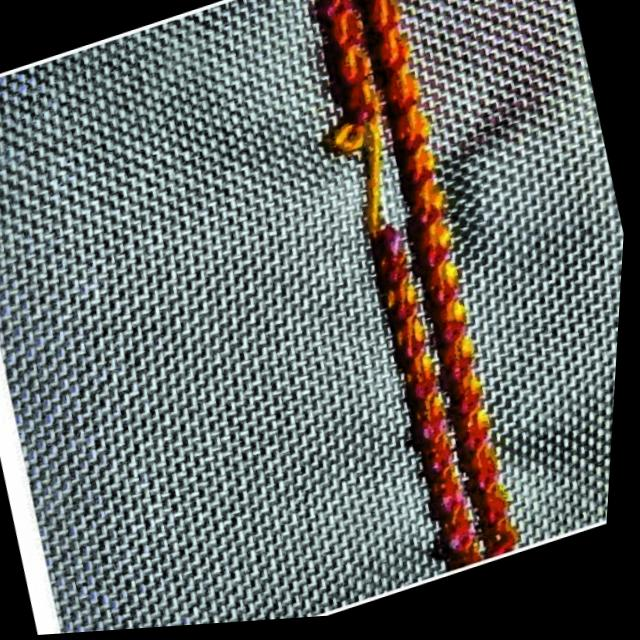Stitch: (309, 92, 446, 281)
